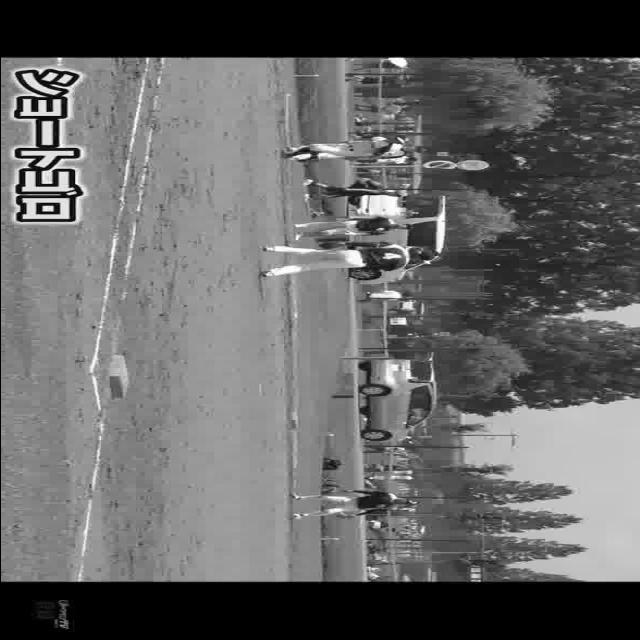base: (106, 353, 128, 399)
shoe: (292, 156, 322, 164), (275, 148, 291, 162), (259, 244, 279, 254), (262, 269, 277, 280)
